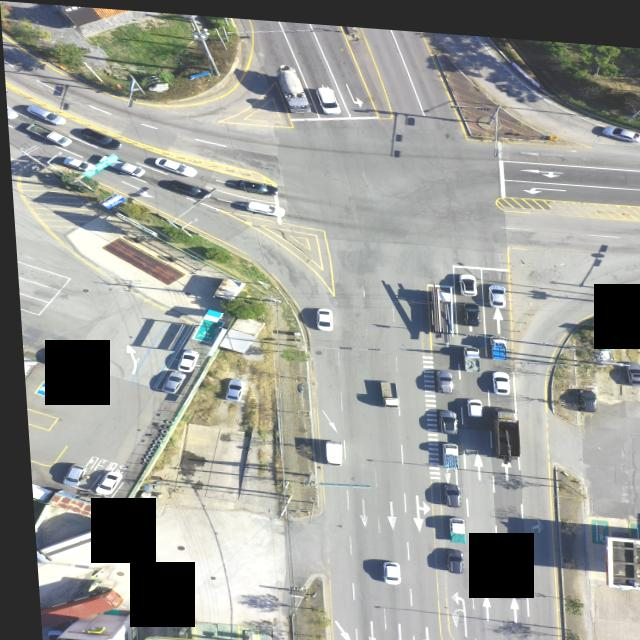car: (157, 175, 207, 197), (30, 342, 69, 366), (74, 127, 117, 148), (23, 103, 65, 124), (151, 154, 194, 173), (224, 176, 276, 191), (313, 80, 339, 109), (54, 152, 93, 171), (86, 468, 115, 493), (70, 352, 99, 376), (600, 116, 640, 133), (432, 402, 455, 429), (54, 462, 80, 485), (155, 367, 180, 390), (242, 197, 281, 211), (173, 347, 196, 370), (218, 374, 240, 397), (430, 363, 449, 389), (436, 477, 455, 501), (438, 544, 456, 569), (458, 297, 477, 320), (573, 381, 592, 404), (488, 363, 506, 386), (485, 278, 503, 301), (375, 555, 393, 578), (312, 302, 330, 325), (456, 267, 474, 289), (486, 575, 514, 589), (623, 359, 640, 378), (461, 390, 478, 409)
medium_truck: (30, 518, 126, 568), (273, 60, 311, 108), (424, 277, 452, 331), (486, 400, 514, 453)
small_truck: (97, 150, 144, 176), (25, 124, 72, 146), (316, 434, 337, 460), (440, 510, 460, 536), (374, 375, 393, 402), (435, 436, 454, 463), (458, 339, 477, 364), (483, 330, 502, 353)
